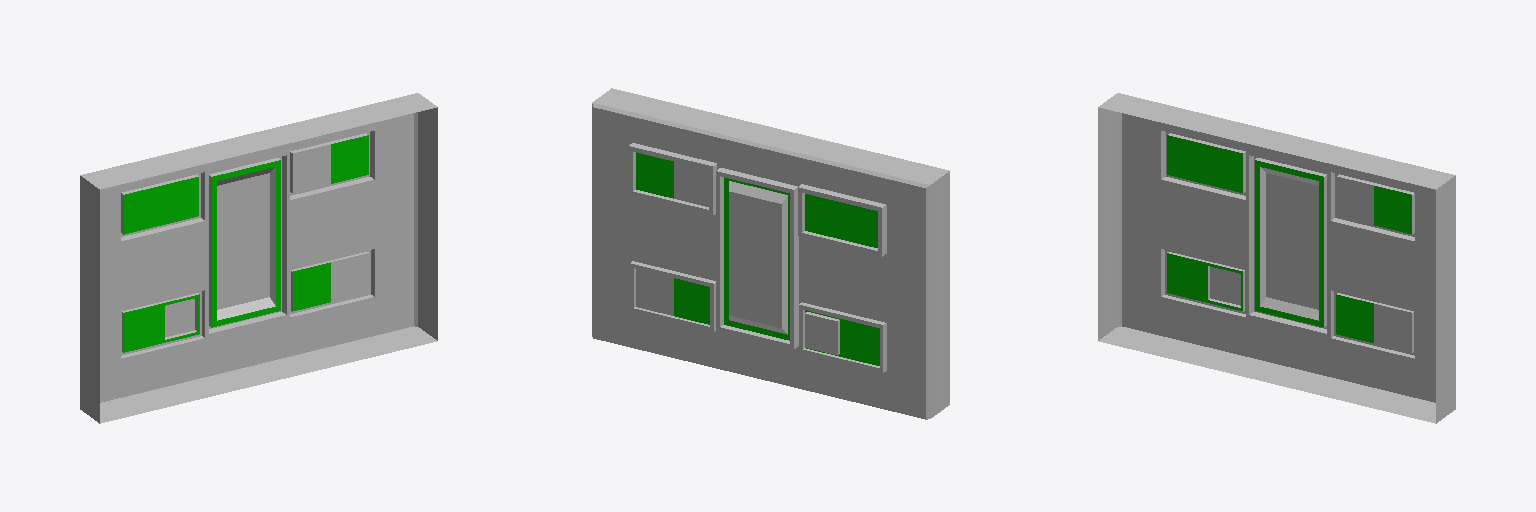
File: WallCover1.obj
3 views of the same model, side by side, from view 1: azimuth 30°, elevation 25°; view 2: azimuth 150°, elevation 25°; view 3: azimuth 330°, elevation 25° (orthographic).
Parts seen in each view (by area): view 1: PanelCover_Cube.006; view 2: PanelCover_Cube.006; view 3: PanelCover_Cube.006.
Part boxes in pixels (left/top/right/bottom): PanelCover_Cube.006: left=80, top=93, right=437, bottom=423; PanelCover_Cube.006: left=592, top=88, right=949, bottom=419; PanelCover_Cube.006: left=1098, top=93, right=1455, bottom=423.
Size of the model in its own units: 5.48 by 3.62 by 0.729.